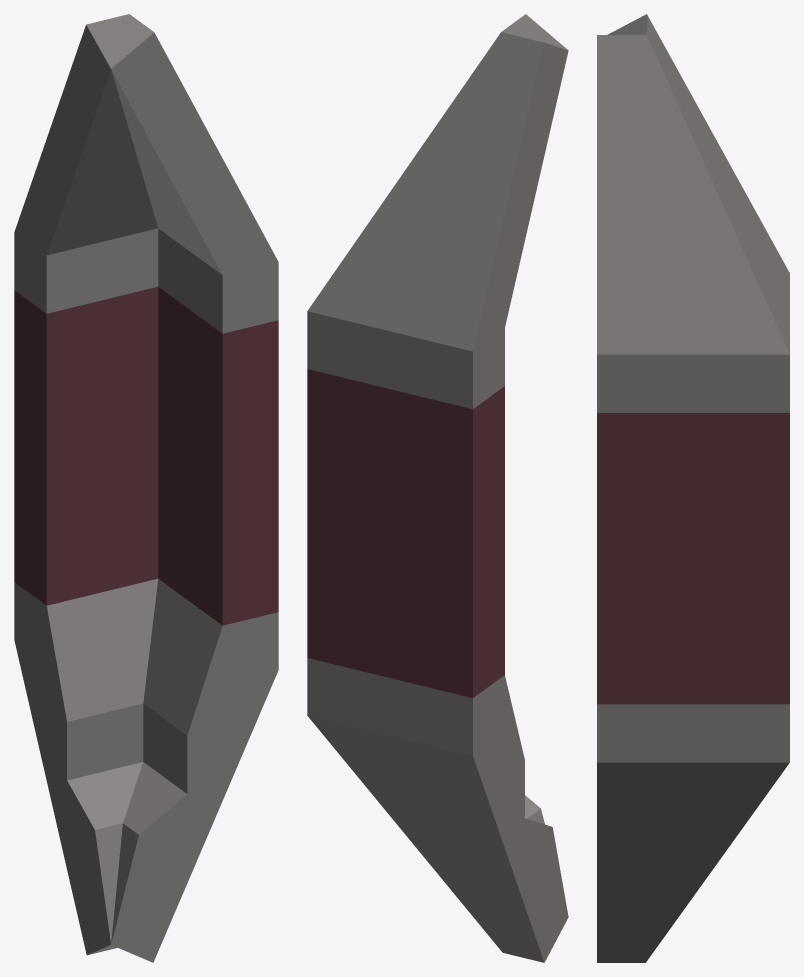
The model's file is scifi-scifi-wall-corridor-corner-stripe.glb.
The picture shows the model from 3 angles, left to right: view 1: azimuth 30°, elevation 25°; view 2: azimuth 150°, elevation 25°; view 3: azimuth 270°, elevation 25°; orthographic projection.
Parts seen in each view (by area): view 1: scifi-wall-corridor-corner-stripe; view 2: scifi-wall-corridor-corner-stripe; view 3: scifi-wall-corridor-corner-stripe.
Boxes of the visible parts, <box> form: scifi-wall-corridor-corner-stripe: <box>14,14,278,962</box>; scifi-wall-corridor-corner-stripe: <box>307,14,568,962</box>; scifi-wall-corridor-corner-stripe: <box>597,14,789,962</box>.
Size of the model in its own units: 0.6 by 3.19 by 0.6.
